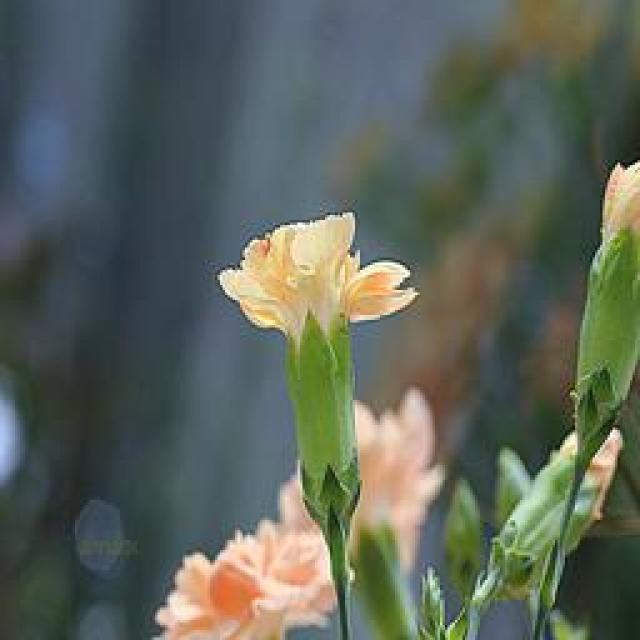carnation: (182, 196, 468, 421)
